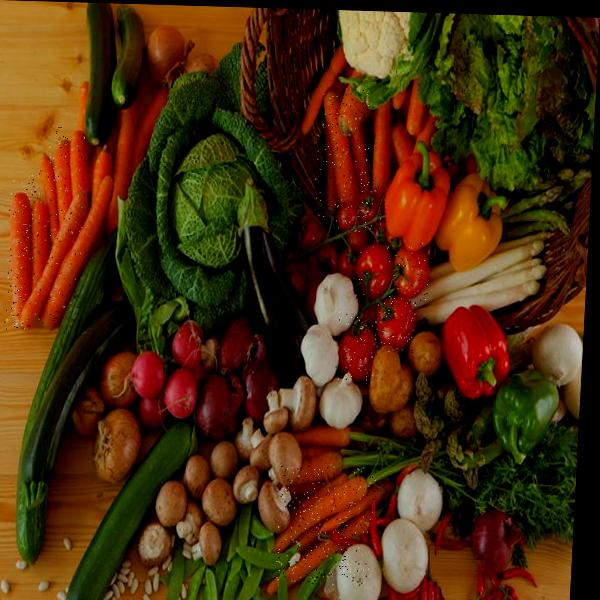carrots: (276, 462, 378, 586), (39, 125, 87, 322), (314, 86, 373, 218), (22, 168, 57, 328), (3, 178, 38, 330)
tomatoes: (335, 312, 379, 383), (393, 242, 434, 301), (375, 295, 416, 353), (355, 240, 394, 296), (355, 180, 384, 231), (335, 203, 362, 235)
